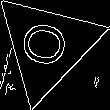O_E: (17, 18, 77, 73)
